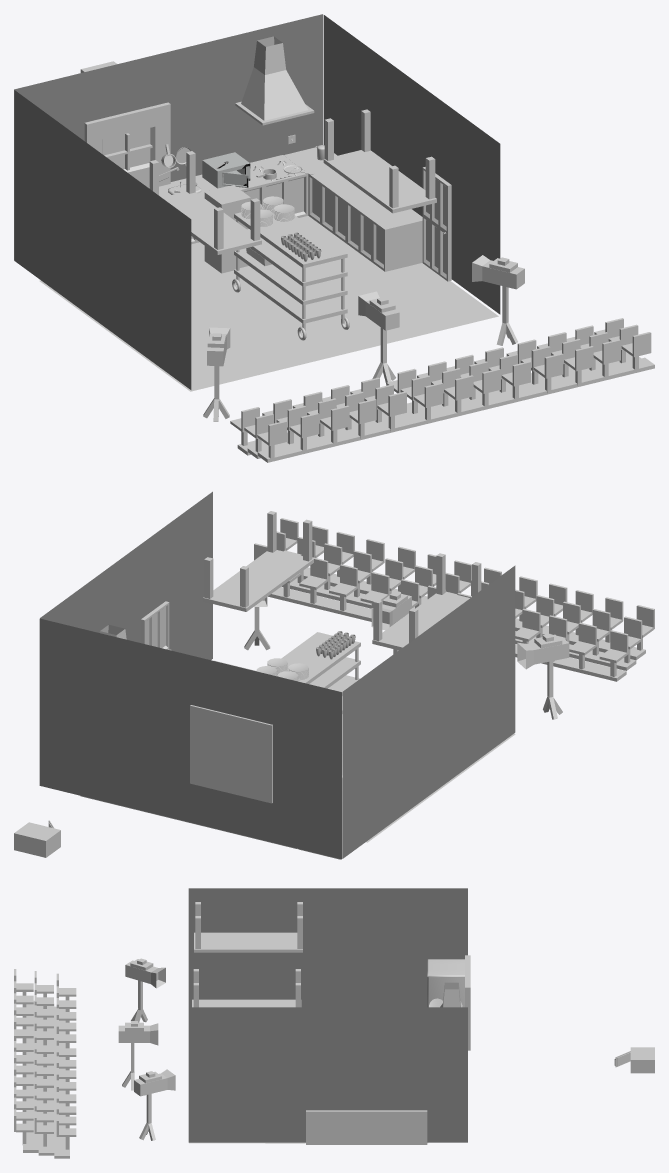
The model's file is Level.FBX.
3 views of the same model, one above another, from view 1: azimuth 30°, elevation 25°; view 2: azimuth 150°, elevation 25°; view 3: azimuth 270°, elevation 25° (orthographic). The views are drawn at different scales.
Parts seen in each view (by area): view 1: Wall_Left, Wall_Back, Wall_Right, Plane001, Box277, Ceiling_Shelf_002, Box122, Box012, Ceiling_Shelf_001, Box271, Cupboard_007, Box026 (+11 smaller); view 2: Wall_Back, Wall_Left, Wall_Right, Box012, Ceiling_Shelf_002, Ceiling_Shelf_001, Box277, Box120, Camera_01, Box274, Box121, Box026 (+3 smaller); view 3: Wall_Right, Wall_Left, Ceiling_Shelf_001, Cupboard_005, Cupboard_006, Cupboard_007, fridge#, Ceiling_Shelf_002, Camera_03, Camera_01, Camera_02, Box120 (+5 smaller).
Boxes of the visible parts, bbox=[...] form: Wall_Left: bbox=[14, 90, 191, 389]; Wall_Back: bbox=[14, 14, 322, 259]; Wall_Right: bbox=[323, 15, 500, 314]; Plane001: bbox=[39, 216, 498, 391]; Box277: bbox=[232, 207, 349, 340]; Ceiling_Shelf_002: bbox=[323, 109, 436, 213]; Box122: bbox=[257, 357, 654, 462]; Box012: bbox=[84, 102, 170, 187]; Ceiling_Shelf_001: bbox=[149, 151, 261, 254]; Box271: bbox=[235, 36, 314, 125]; Cupboard_007: bbox=[359, 205, 422, 271]; Box026: bbox=[422, 167, 451, 281]; Wall_Back: bbox=[39, 618, 341, 859]; Wall_Left: bbox=[342, 565, 515, 858]; Wall_Right: bbox=[40, 491, 212, 659]; Box012: bbox=[190, 705, 272, 803]; Ceiling_Shelf_002: bbox=[203, 511, 313, 611]; Ceiling_Shelf_001: bbox=[372, 553, 481, 650]; Box277: bbox=[277, 632, 360, 713]; Box120: bbox=[268, 587, 626, 681]; Camera_01: bbox=[517, 634, 569, 719]; Box274: bbox=[14, 822, 60, 857]; Box121: bbox=[281, 578, 636, 670]; Box026: bbox=[141, 601, 169, 649]; Wall_Right: bbox=[188, 1007, 467, 1142]; Wall_Left: bbox=[188, 888, 467, 1007]; Ceiling_Shelf_001: bbox=[194, 902, 302, 952]; Cupboard_005: bbox=[386, 1110, 427, 1144]; Cupboard_006: bbox=[346, 1110, 386, 1144]; Cupboard_007: bbox=[306, 1110, 346, 1144]; fridge#: bbox=[427, 959, 464, 1007]; Ceiling_Shelf_002: bbox=[192, 969, 301, 1007]; Camera_03: bbox=[134, 1069, 175, 1140]; Camera_01: bbox=[125, 958, 165, 1022]; Camera_02: bbox=[118, 1021, 158, 1090]; Box120: bbox=[54, 1006, 69, 1158].
Bounding box in the file's own units: 575 × 246 × 1033.
